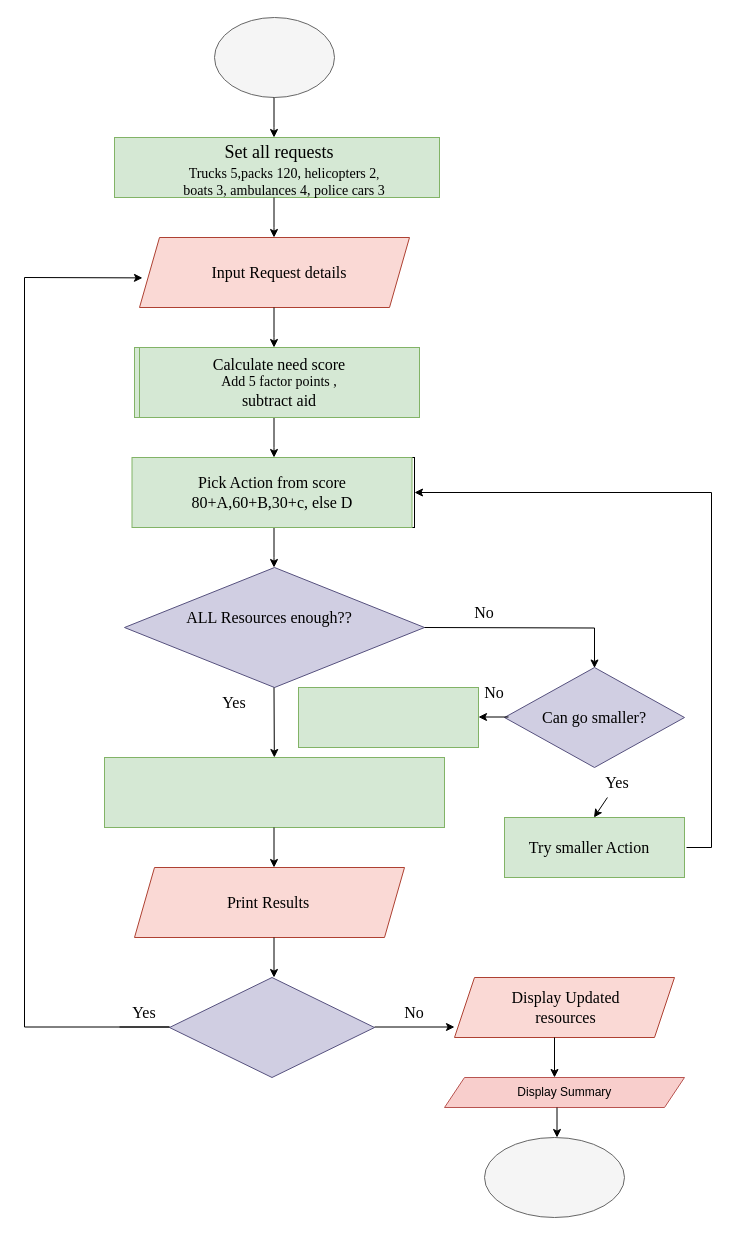
Some shapes in this 737 by 1235 pixel diagram are drawn without their labels. The centre of each missing label's shape, as x and y in pixels:
"END" goes at [554,1177].
"More Requests?" goes at [271,1027].
"Set action=D Defer" goes at [388,717].
"START" goes at [274,57].
"Update all resources" goes at [274,792].
